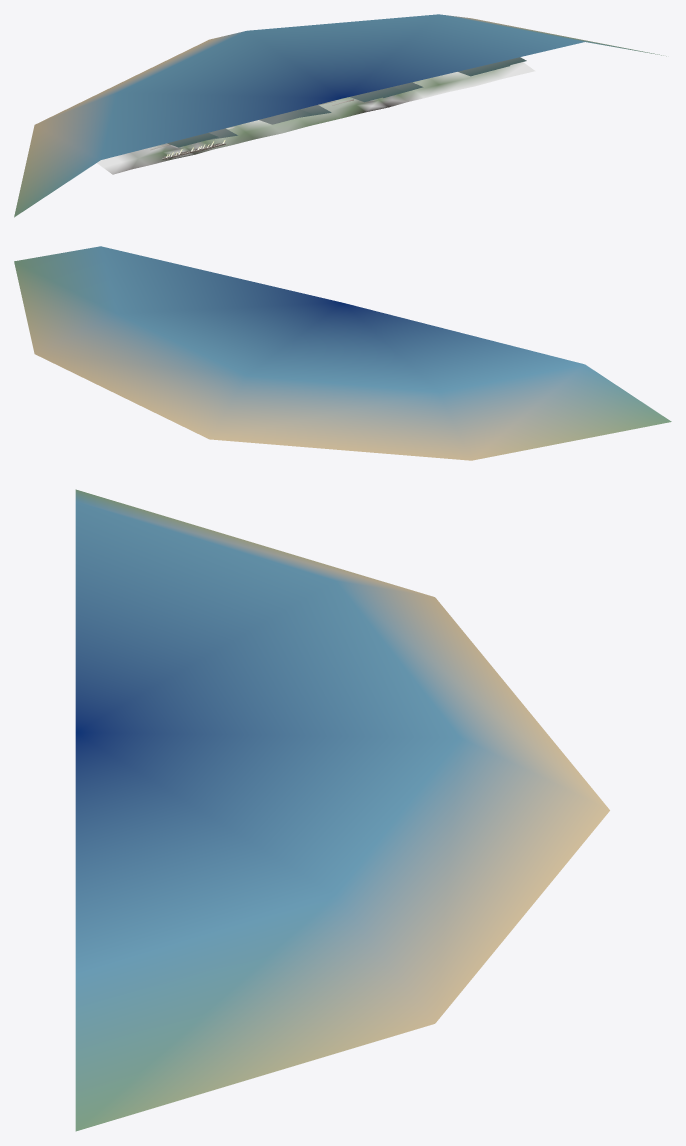
The model's file is Forest_07.fbx.
3 renders of one model, top to bottom at view 1: azimuth 30°, elevation 25°; view 2: azimuth 150°, elevation 25°; view 3: azimuth 270°, elevation 25°, orthographic. The views are drawn at different scales.
Visible parts, largest first — view 1: Light_01_ncl1_1, Bg_01_A1, Cloud_01; view 2: Light_01_ncl1_1; view 3: Light_01_ncl1_1.
Boxes of the visible parts, left/top/right/bottom form: Light_01_ncl1_1: left=14, top=14, right=666, bottom=217; Bg_01_A1: left=97, top=62, right=535, bottom=174; Cloud_01: left=167, top=57, right=526, bottom=147; Light_01_ncl1_1: left=14, top=246, right=671, bottom=460; Light_01_ncl1_1: left=75, top=489, right=609, bottom=1131.
Bounding box in the file's own units: 8461 × 478 × 2977.
